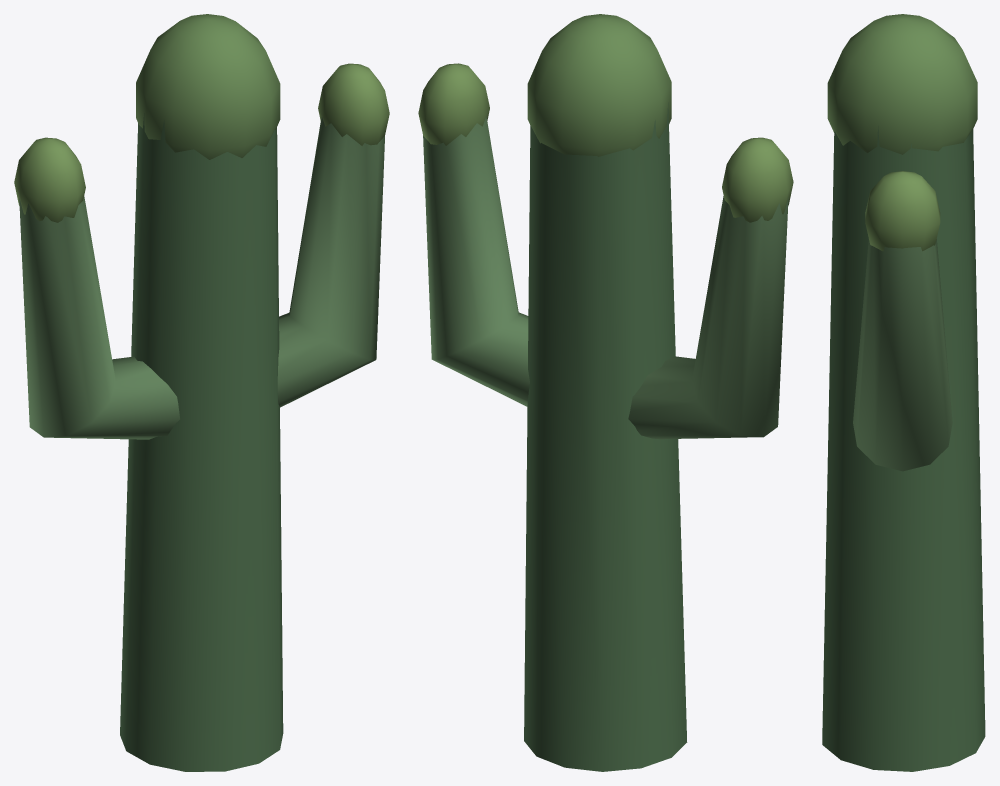
The model's file is route66_foliage.glb.
3 renders of one model, left to right at view 1: azimuth 30°, elevation 25°; view 2: azimuth 150°, elevation 25°; view 3: azimuth 270°, elevation 25°, orthographic.
Parts seen in each view (by area): view 1: Route66Foliage; view 2: Route66Foliage; view 3: Route66Foliage.
Boxes of the visible parts, x1,y1,x2,y2 form: Route66Foliage: [14, 14, 389, 771]; Route66Foliage: [418, 14, 793, 771]; Route66Foliage: [822, 14, 985, 771].
Size of the model in its own units: 1.17 by 2.21 by 0.4533.
